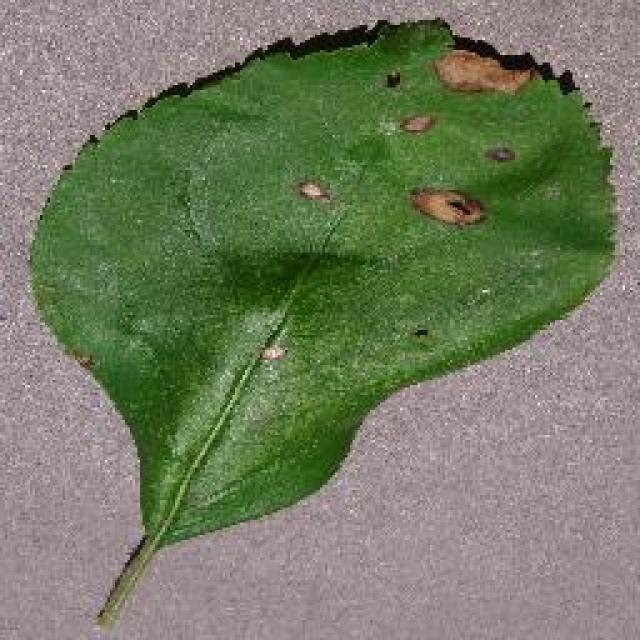Black_rot: (25, 15, 617, 630)
